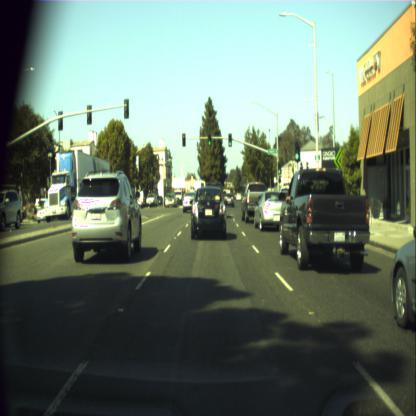Green: (294, 138, 300, 162), (278, 160, 282, 174), (228, 134, 231, 146), (208, 134, 211, 145)
Red: (182, 132, 186, 146)
